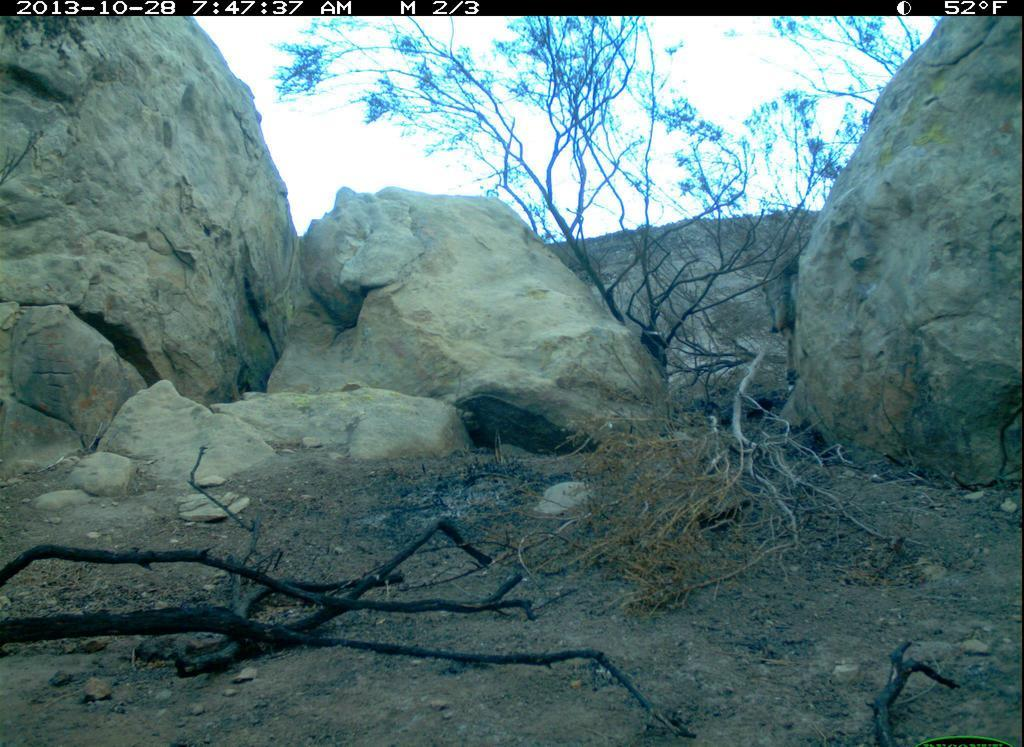coyote: (761, 252, 825, 393)
